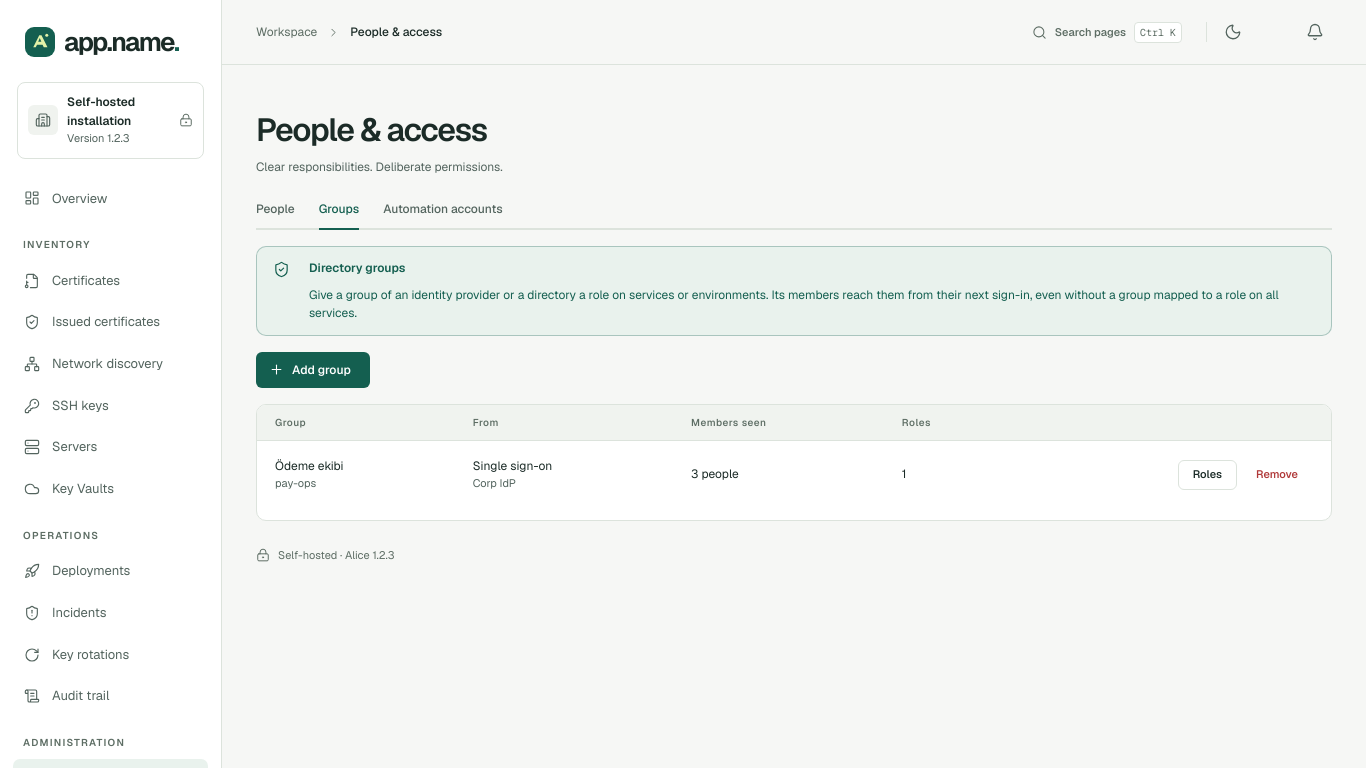
Test: People & access: Groups (R54) › removes a group and says what went with it
Click the button with aria-label "Remove Ödeme ekibi".
click(1277, 474)  # box left=1241, top=460, right=1313, bottom=490
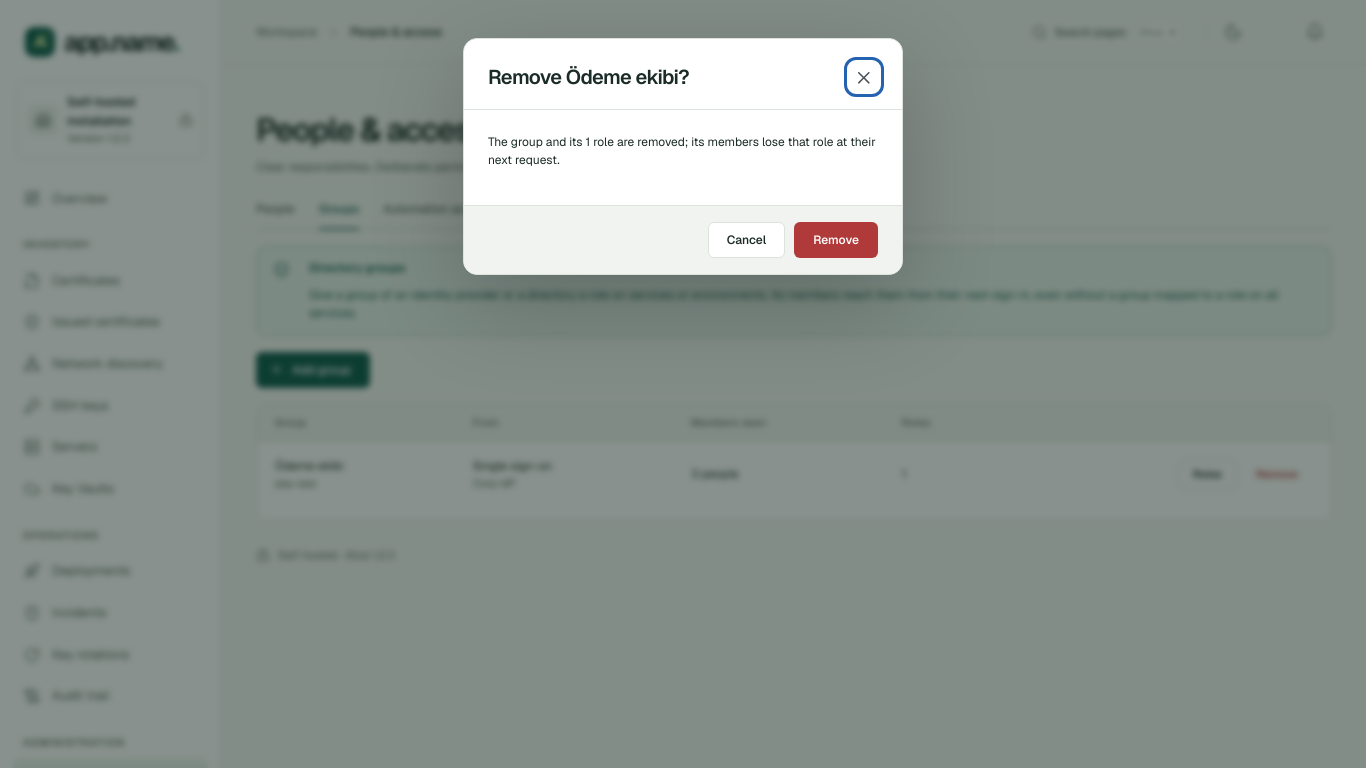
Result: the dialog shows "its 1 role are removed" at left=488, top=134, right=876, bottom=168
Click the button "Remove".
click(836, 240)  # box left=794, top=222, right=878, bottom=258
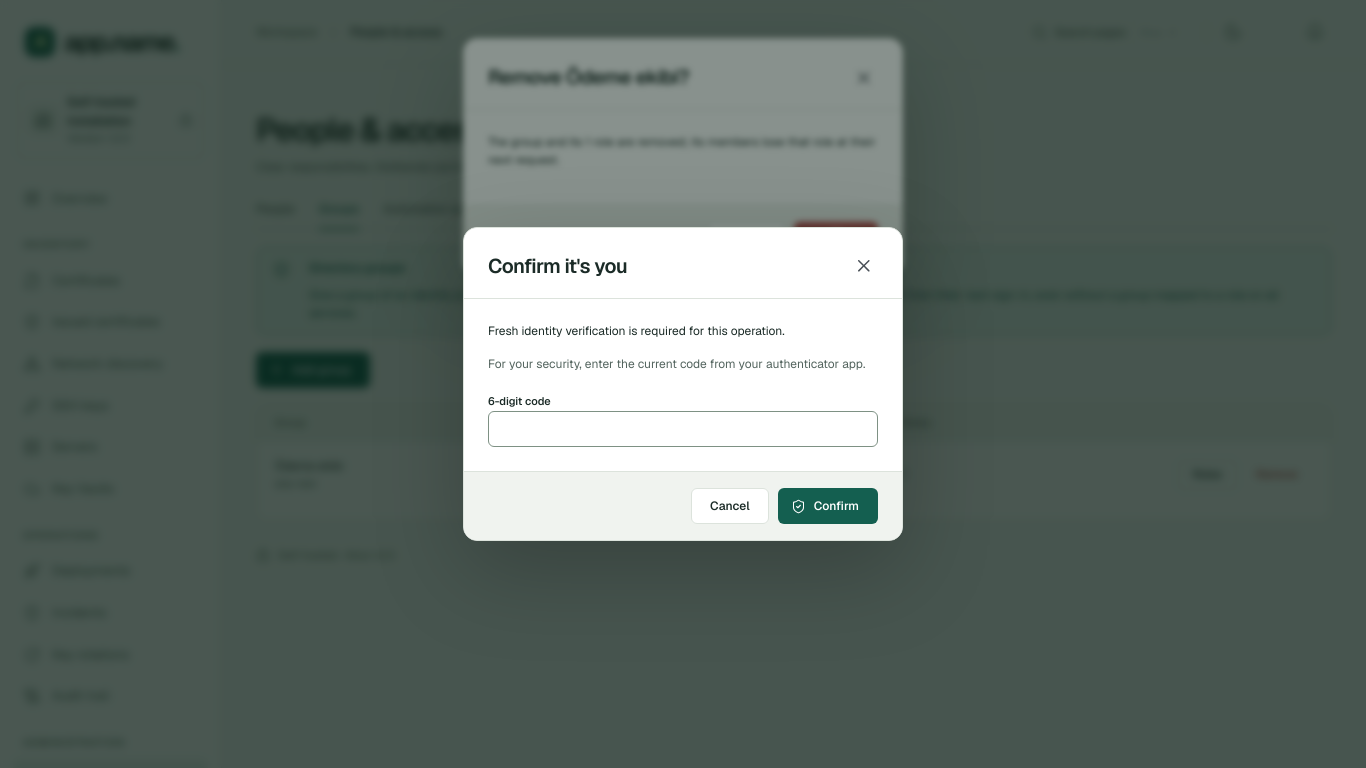
Type "123456" into the field labelled "6-digit code".
click(683, 429); type("123456")  # box left=488, top=411, right=878, bottom=447
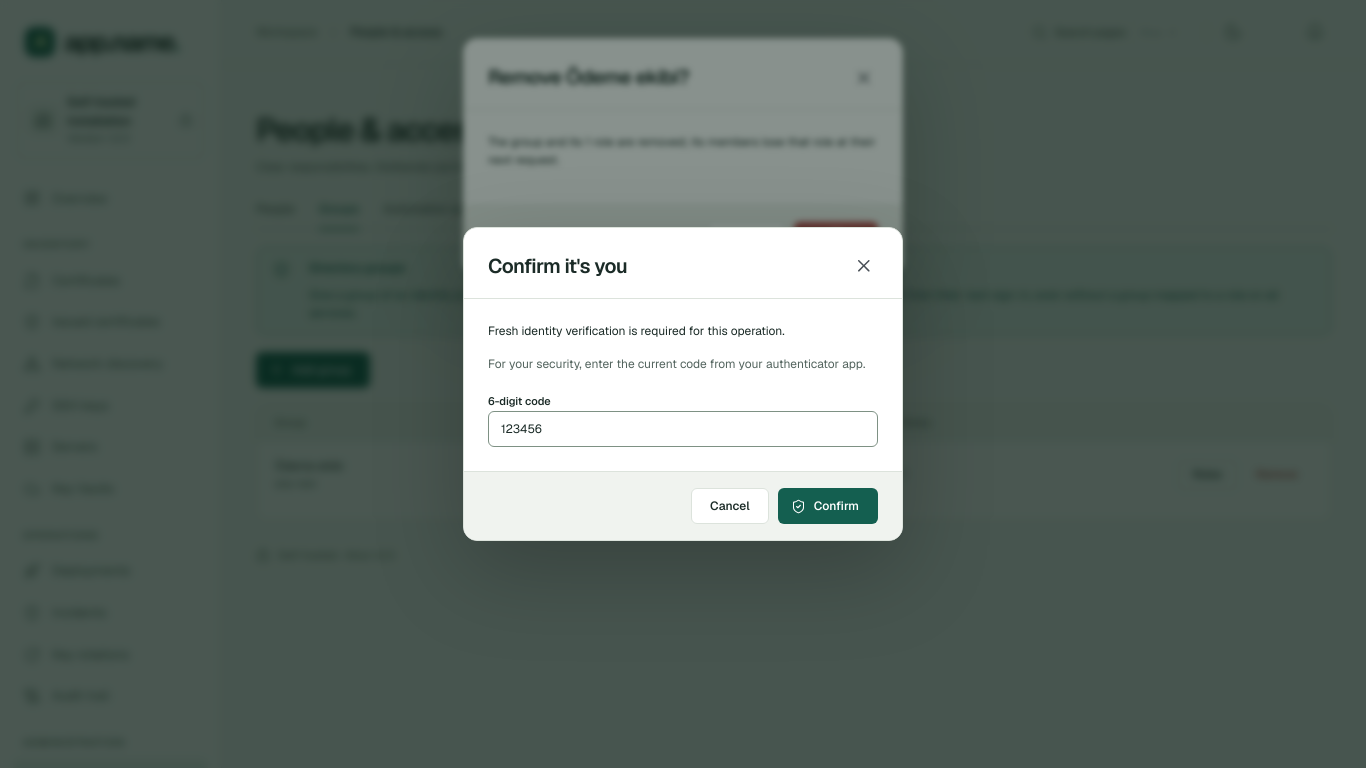
Press Enter
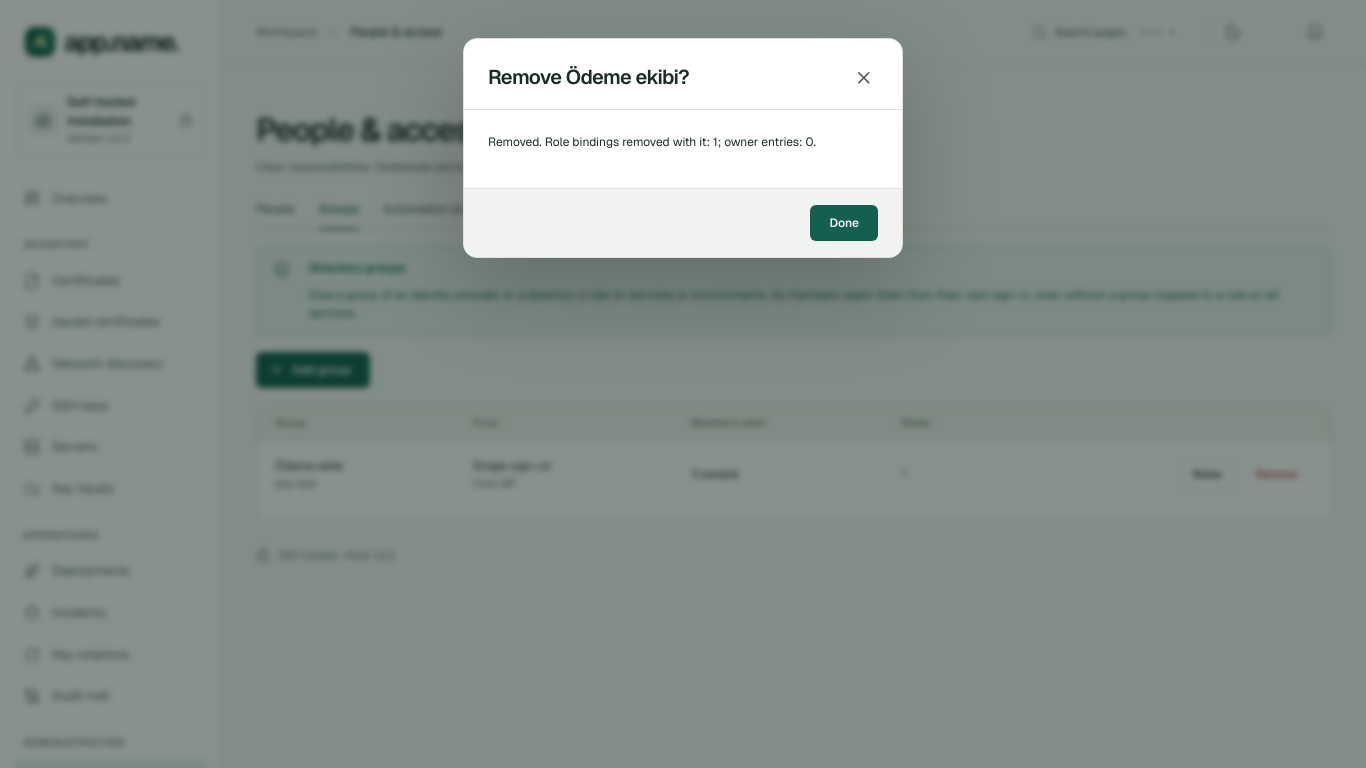
Result: the text with test id "group-deleted" shows "Role bindings removed with it: 1; owner entries: 0." at left=488, top=134, right=816, bottom=150
